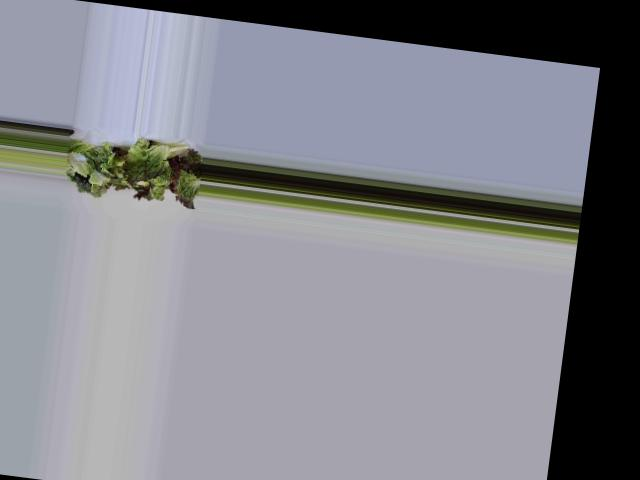lettuce: (70, 138, 199, 204)
